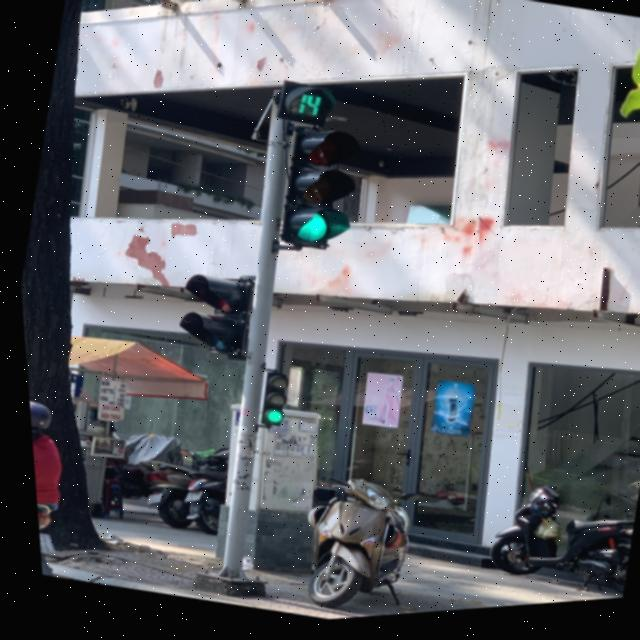Green: (255, 126, 366, 269), (237, 361, 298, 438)
